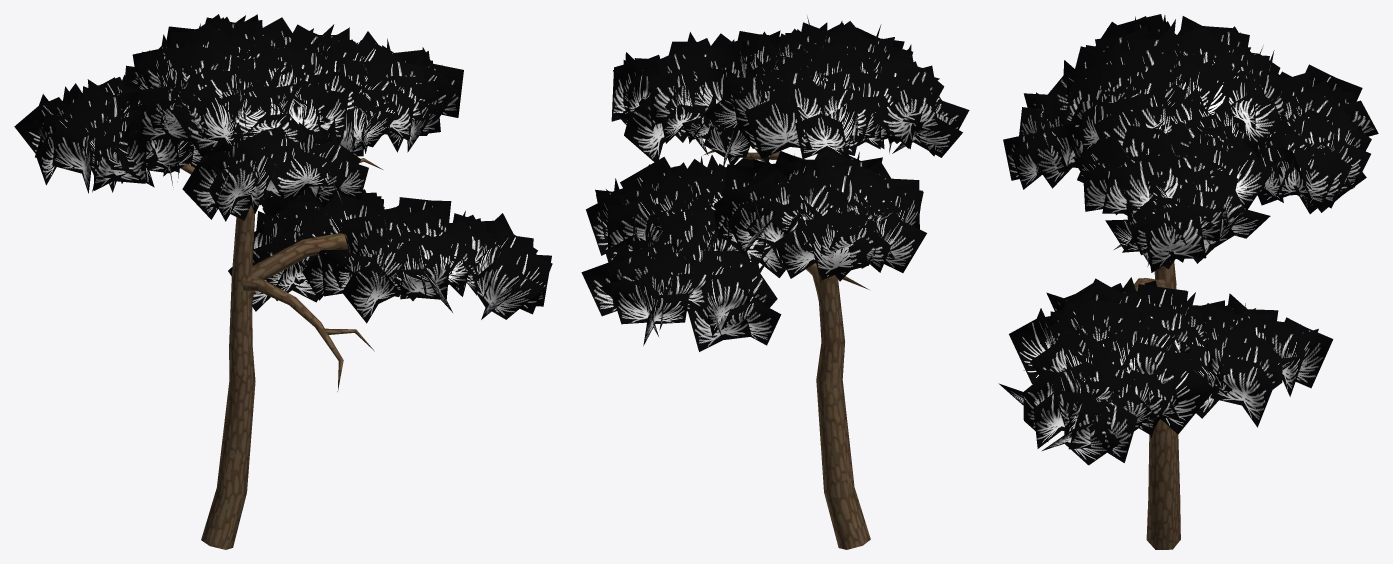
Rendered from P_TheGreetingPine.obj.
The picture shows the model from 3 angles, left to right: view 1: azimuth 30°, elevation 25°; view 2: azimuth 150°, elevation 25°; view 3: azimuth 270°, elevation 25°; orthographic projection. The views are drawn at different scales.
Size of the model in its own units: 15.06 by 17.46 by 11.49.
